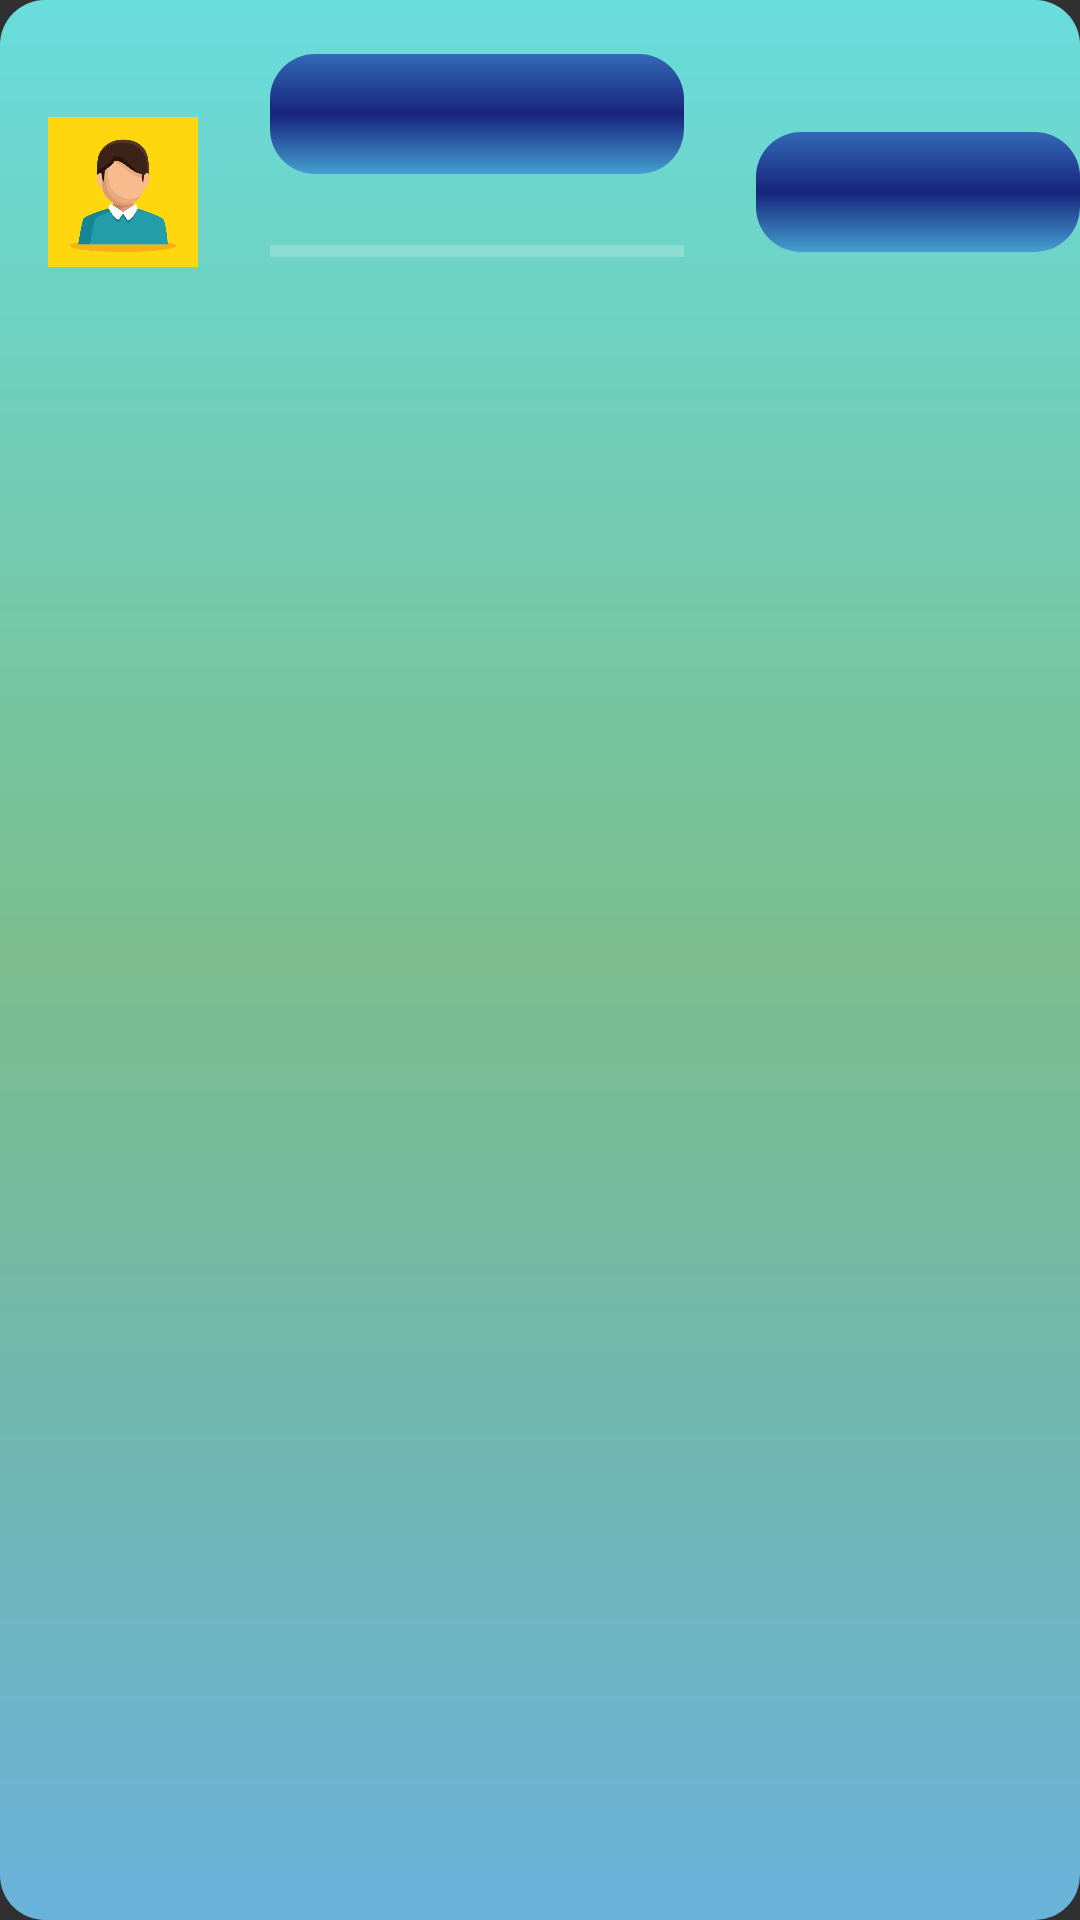

Where icons sit on this 1080px×1920px app screen, as (x1, y1, x2, y2):
student: (48, 117, 198, 267)
